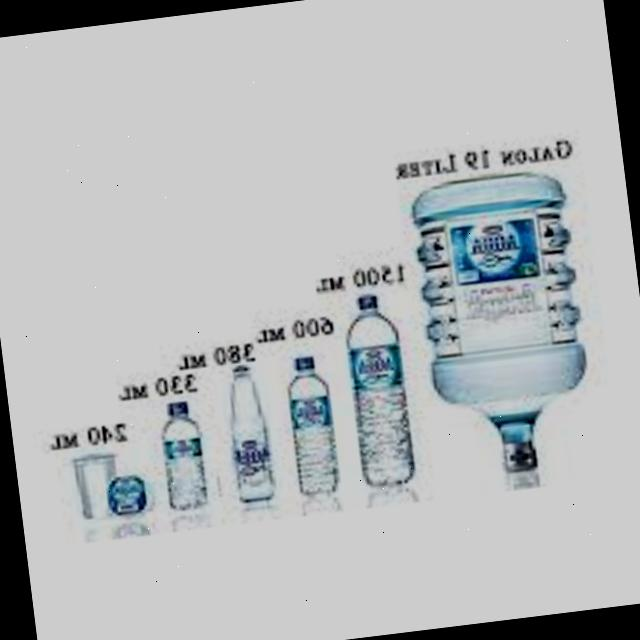trash: (338, 286, 420, 490), (280, 350, 344, 500), (220, 360, 279, 508), (152, 395, 212, 517)
